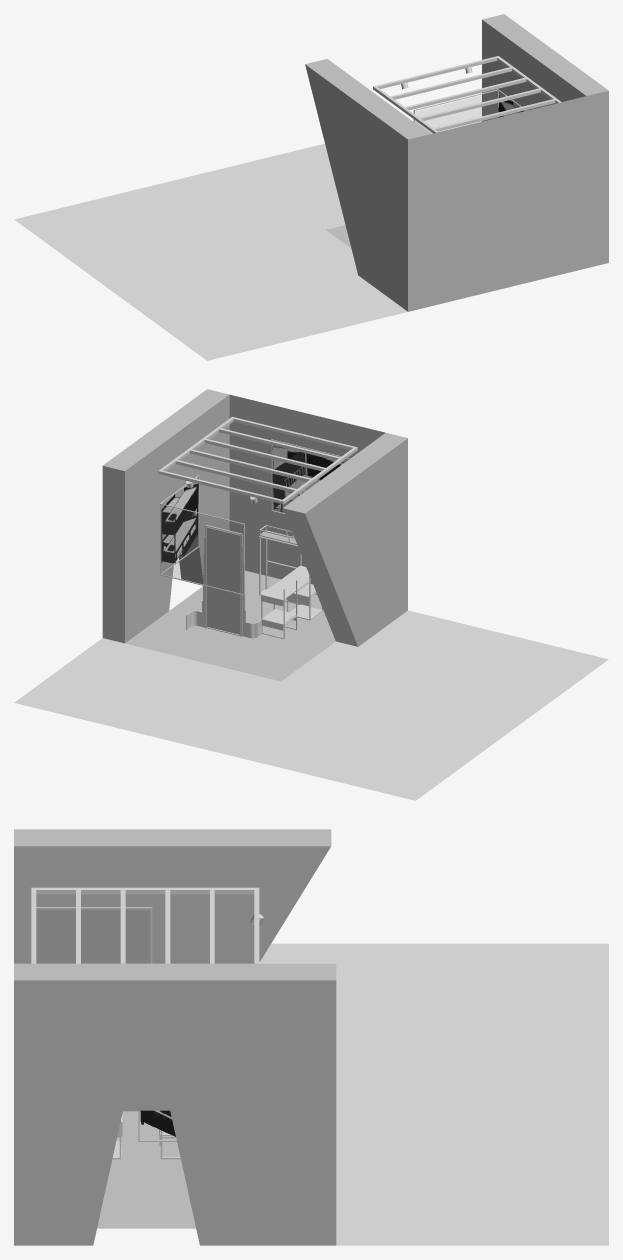
File: location03.dae
3 views of the same model, one above another, from view 1: azimuth 30°, elevation 25°; view 2: azimuth 150°, elevation 25°; view 3: azimuth 270°, elevation 25° (orthographic). The views are drawn at different scales.
Visible parts, largest first — view 1: Plane, Plane.3, Plane.1 (×2), Plane.5, Cube.3 (×2), Cube.4, Cube.2, Cube.5, Cube.1; view 2: Plane (×2), Plane.1 (×2), Plane.5, Plane.3, Cube.3 (×3), _350mWall_cover, Cube.2 (×2), Cube.1 (×2), Cube.5, Cube, Cube.4; view 3: Plane.5, Plane.1 (×2), Plane (×2), Cube, Cube.7, Cube.2.
Boxes of the visible parts, x1,y1,x2,y2 form: Plane: (14,165,407,360); Plane.3: (430,96,586,306); Plane.1 (×2): (237,59,431,311); Plane.5: (482,14,608,268); Cube.3 (×2): (403,77,528,133); Cube.4: (388,66,513,99); Cube.2: (417,88,543,120); Cube.5: (373,56,499,88); Cube.1: (432,98,557,131); Plane (×2): (125,570,608,800); Plane.1 (×2): (14,433,407,746); Plane.5: (102,389,229,643); Plane.3: (229,394,385,584); Cube.3 (×3): (161,449,314,606); _350mWall_cover: (207,527,240,634); Cube.2 (×2): (161,438,328,563); Cube.1 (×2): (216,427,343,512); Cube.5: (158,470,285,504); Cube: (231,417,357,450); Cube.4: (175,460,299,493); Plane.5: (14,963,336,1245); Plane.1 (×2): (14,829,608,1245); Plane (×2): (97,943,608,1228); Cube: (37,910,148,962); Cube.7: (36,887,258,894); Cube.2: (140,1110,175,1136).
Bounding box in the file's own units: 1440 × 590 × 1200.
